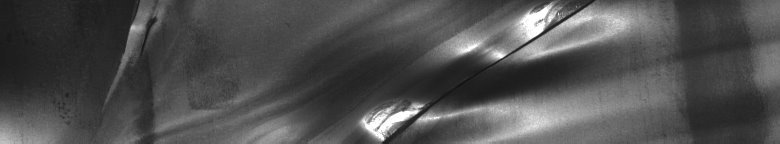ke: (359, 4, 603, 136)
